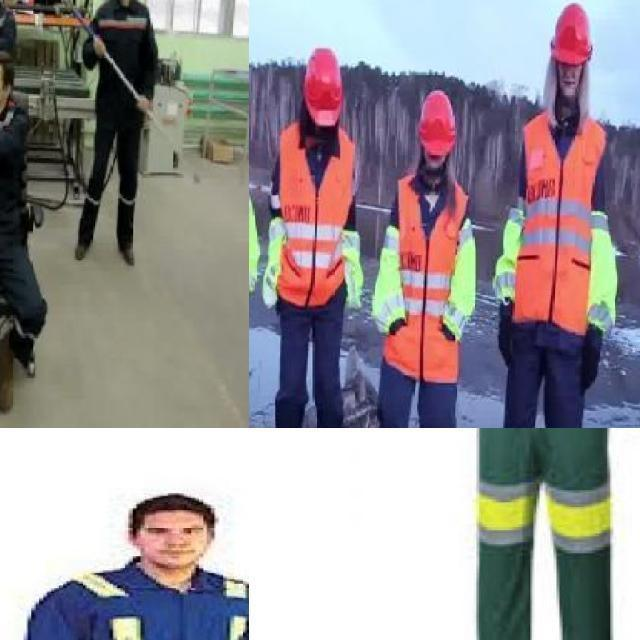apron: (582, 314, 604, 386), (494, 296, 512, 361)
